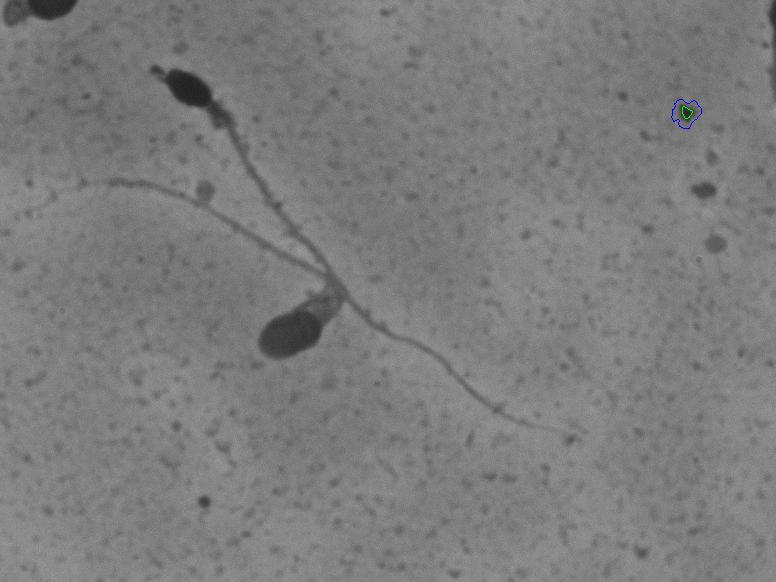Abnormal: (74, 204, 366, 397), (92, 15, 325, 198)
